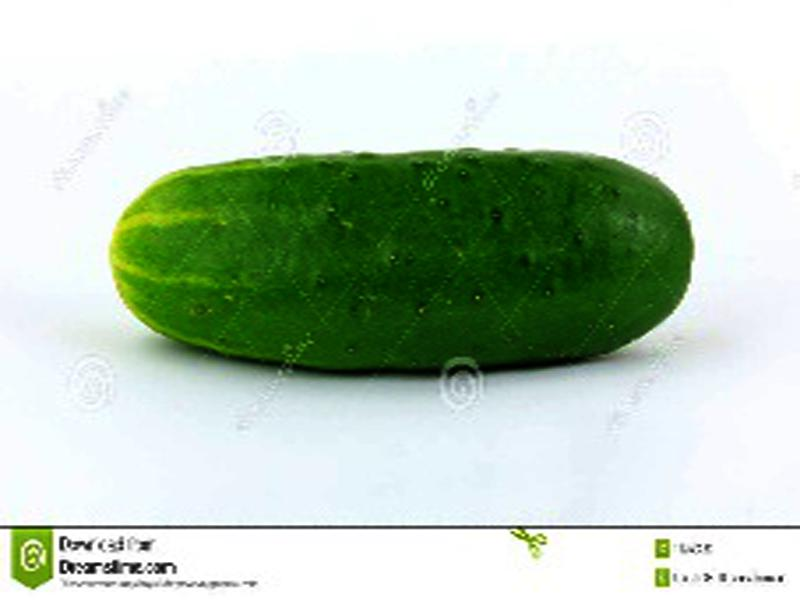Cucumber: (113, 153, 694, 373)
